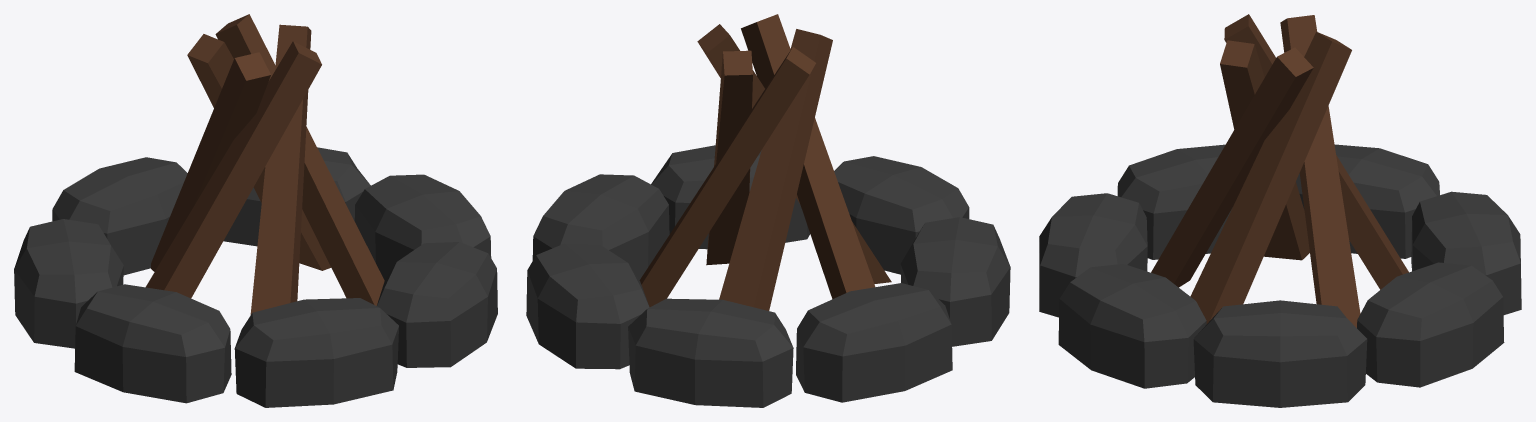
The model's file is Campfire.fbx.
3 renders of one model, left to right at view 1: azimuth 30°, elevation 25°; view 2: azimuth 150°, elevation 25°; view 3: azimuth 270°, elevation 25°, orthographic.
Visible parts, largest first — view 1: Campfire_LOD0; view 2: Campfire_LOD0; view 3: Campfire_LOD0.
Boxes of the visible parts, <box> form: Campfire_LOD0: <box>14,14,497,407</box>; Campfire_LOD0: <box>526,14,1010,407</box>; Campfire_LOD0: <box>1039,14,1521,407</box>.
Size of what is drawn, in the model's own units: 319 by 197 by 317.
